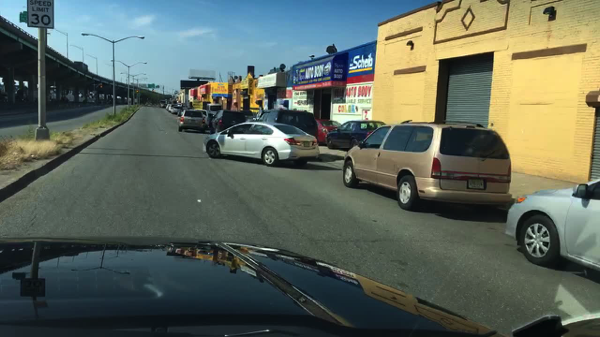car: (342, 121, 511, 212), (506, 180, 598, 271), (205, 123, 318, 167), (255, 110, 318, 139), (326, 120, 384, 150), (209, 110, 245, 136), (316, 118, 341, 146), (177, 110, 205, 132), (195, 108, 210, 127), (206, 103, 223, 118), (240, 108, 255, 123), (169, 106, 183, 114), (1, 94, 10, 104), (176, 110, 186, 118), (16, 96, 27, 103), (168, 104, 177, 112), (96, 98, 103, 106), (158, 103, 168, 108), (105, 100, 113, 106), (165, 104, 171, 111), (49, 98, 56, 104), (145, 103, 151, 108), (151, 103, 158, 107)
traffic light: (100, 81, 105, 90), (136, 88, 139, 95)
traffic sign: (28, 0, 54, 29), (20, 11, 28, 24), (66, 93, 73, 102), (148, 84, 155, 90), (138, 84, 147, 88), (155, 83, 160, 90)
